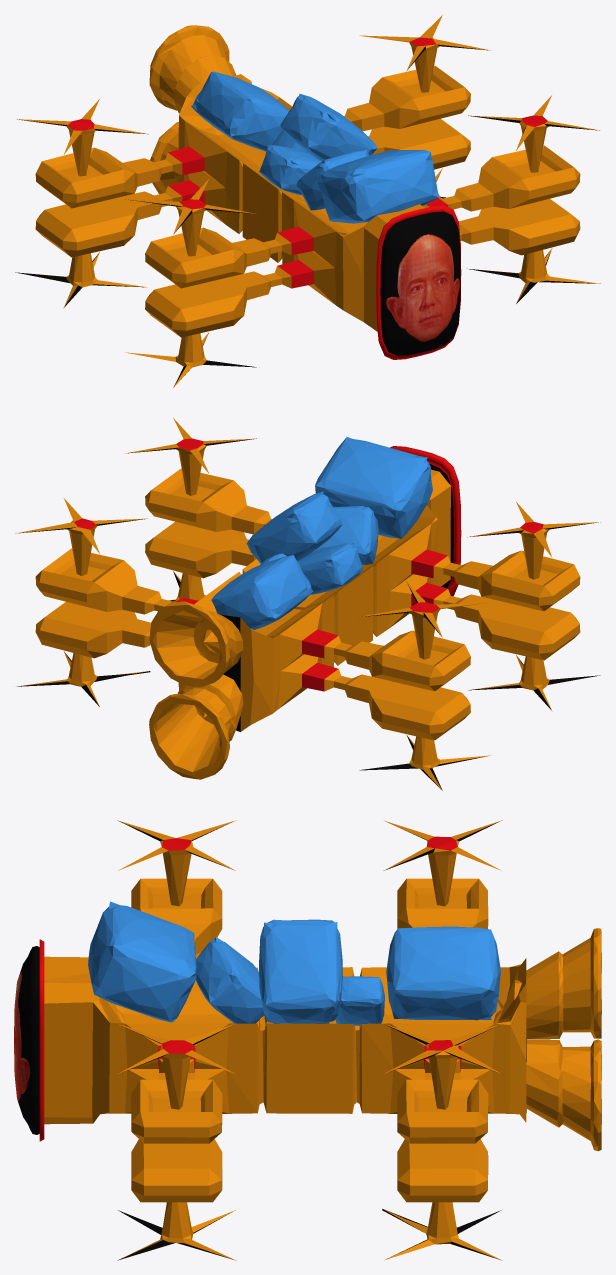
The model's file is bezos_bigbezos.fbx.
3 views of the same model, one above another, from view 1: azimuth 30°, elevation 25°; view 2: azimuth 150°, elevation 25°; view 3: azimuth 270°, elevation 25° (orthographic). The views are drawn at different scales.
Parts seen in each view (by area): view 1: Circle.001; view 2: Circle.001; view 3: Circle.001.
Part boxes in pixels (x1,y1,x2,y2): Circle.001: (15,15,600,387); Circle.001: (15,418,600,790); Circle.001: (14,820,601,1260).
Size of the model in its own units: 1280 by 531 by 1249.
